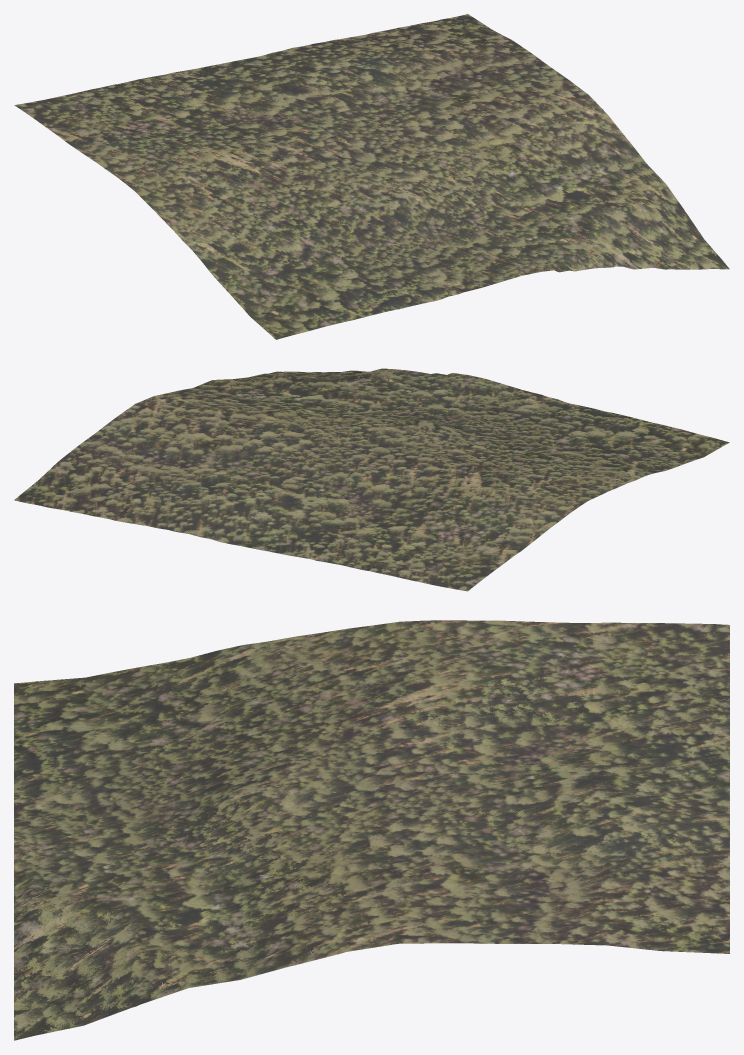
File: CM_Terrain_24491278_6816722.fbx
The picture shows the model from 3 angles, top to bottom: view 1: azimuth 30°, elevation 25°; view 2: azimuth 150°, elevation 25°; view 3: azimuth 270°, elevation 25°; orthographic projection. The views are drawn at different scales.
Visible parts, largest first — view 1: CM_Terrain_24491278_6816722_LOD0; view 2: CM_Terrain_24491278_6816722_LOD0; view 3: CM_Terrain_24491278_6816722_LOD0.
Boxes of the visible parts, x1,y1,x2,y2 form: CM_Terrain_24491278_6816722_LOD0: (14, 14, 729, 339); CM_Terrain_24491278_6816722_LOD0: (14, 368, 729, 591); CM_Terrain_24491278_6816722_LOD0: (14, 620, 729, 1040).
Size of what is drawn, in the model's own units: 205 by 37.68 by 205.
